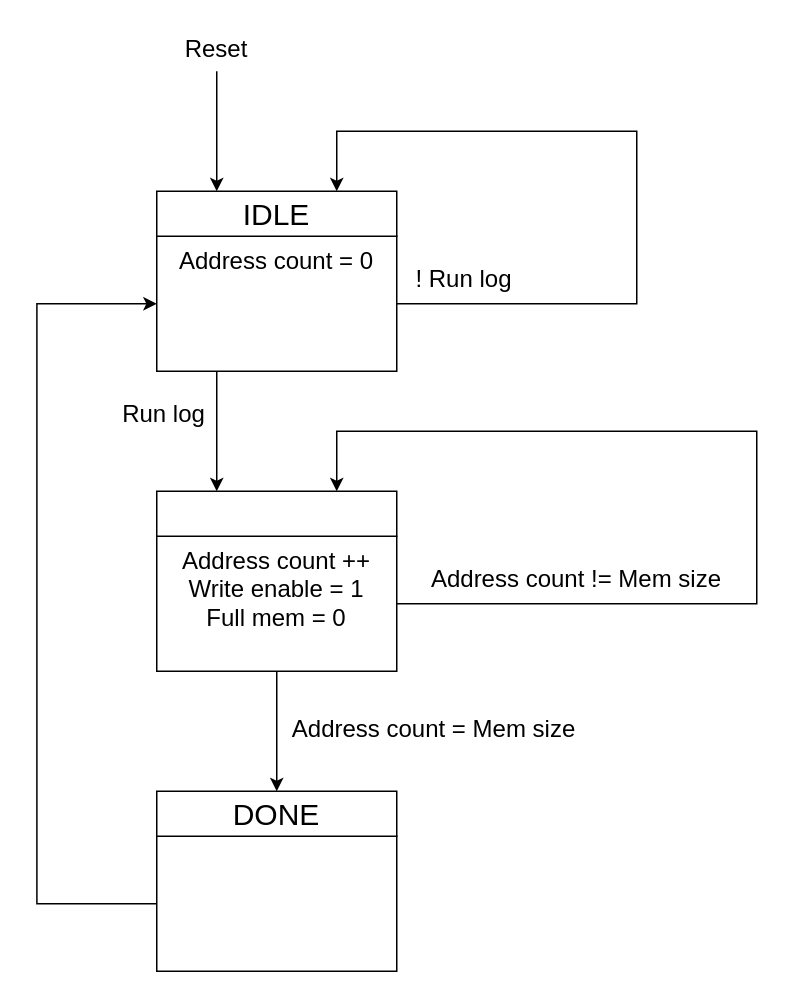
This 795x998 diagram has some shape labels left out. The shapes that lost their labels are listed below. From the top down, each one's centre as x and y in pixels, then its label:
At point (276, 513): "SAVING".
At point (276, 903): "Run enable = 0 Full mem = 1".
